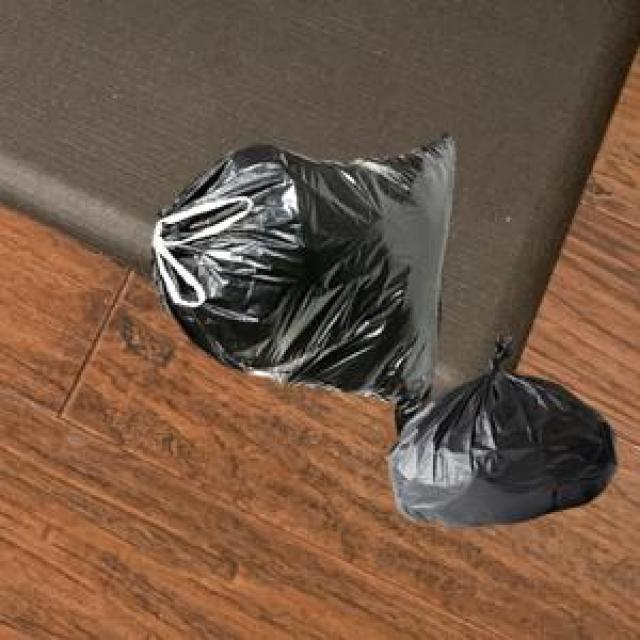waste: (154, 138, 616, 524)
